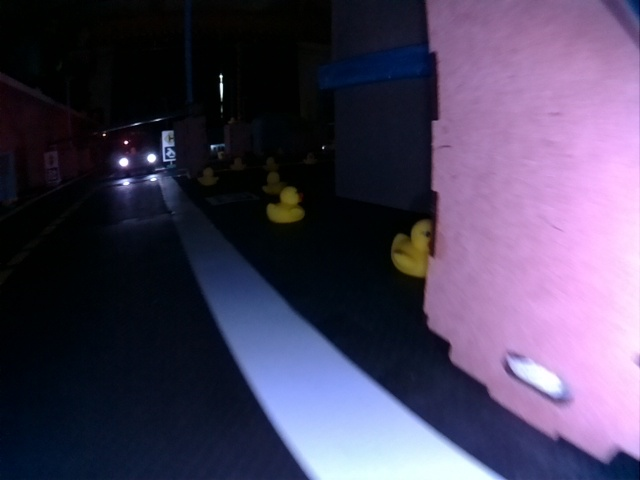Duckie: (392, 222, 433, 277), (267, 189, 303, 222), (262, 172, 282, 193), (198, 169, 218, 185), (230, 158, 245, 170), (264, 158, 276, 171), (304, 153, 314, 163), (228, 117, 238, 125)
Duckiebot: (117, 150, 156, 175)
Intersection sign: (162, 131, 175, 144)
QR code: (206, 192, 258, 205), (44, 167, 60, 181), (163, 146, 176, 161)
